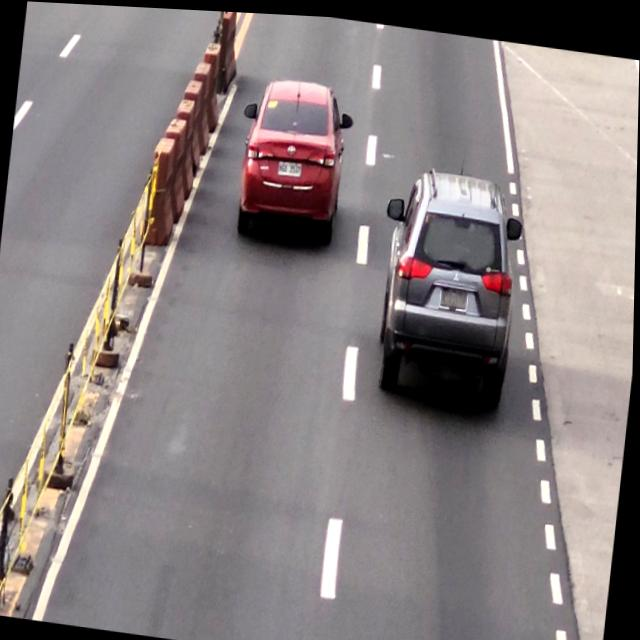Car: (376, 162, 528, 412), (237, 69, 351, 237)
License-Plate: (437, 278, 472, 306), (278, 155, 304, 175)
